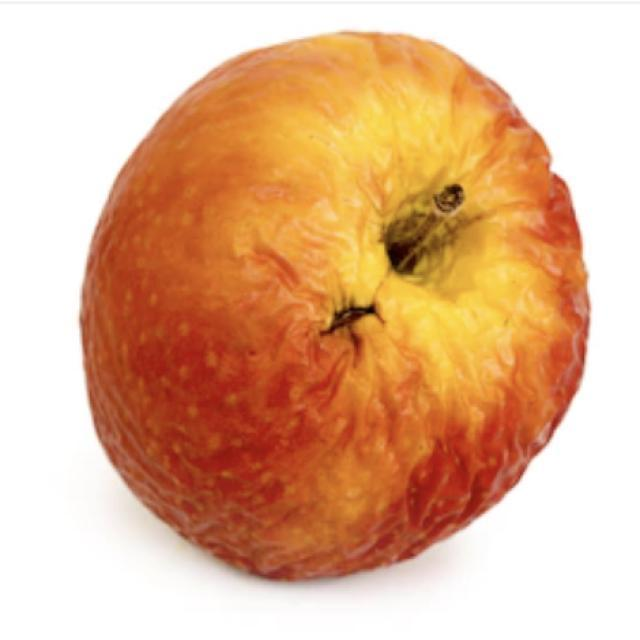Rotten: (62, 43, 558, 555)
